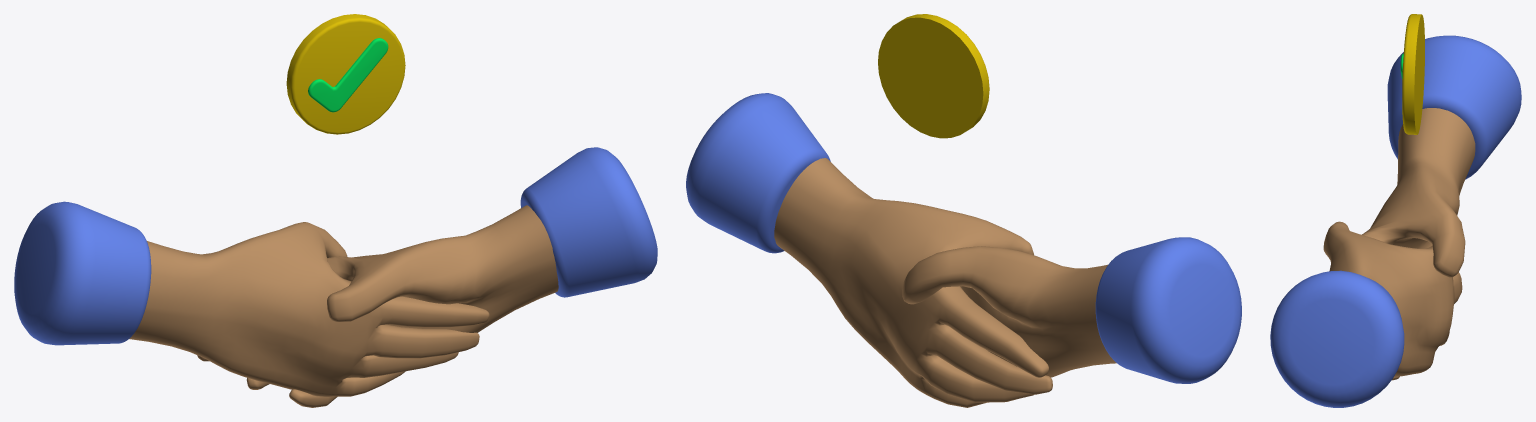
File: mobile-shopping-1678808352269.glb
The picture shows the model from 3 angles, left to right: view 1: azimuth 30°, elevation 25°; view 2: azimuth 150°, elevation 25°; view 3: azimuth 270°, elevation 25°; orthographic projection. The views are drawn at different scales.
Parts seen in each view (by area): view 1: hands.002, hands.001, check; view 2: hands.001, hands.002, check; view 3: hands.001, hands.002, check.
Boxes of the visible parts, x1=… form: hands.002: x1=14, y1=201, x2=489, y2=396; hands.001: x1=197, y1=147, x2=657, y2=407; check: x1=286, y1=14, x2=405, y2=134; hands.001: x1=686, y1=93, x2=1052, y2=407; hands.002: x1=902, y1=237, x2=1241, y2=383; check: x1=878, y1=14, x2=989, y2=138; hands.001: x1=1270, y1=221, x2=1462, y2=407; hands.002: x1=1362, y1=35, x2=1521, y2=380; check: x1=1400, y1=14, x2=1424, y2=134.
Bounding box in the file's own units: 2.35 × 1.5 × 0.9499.
